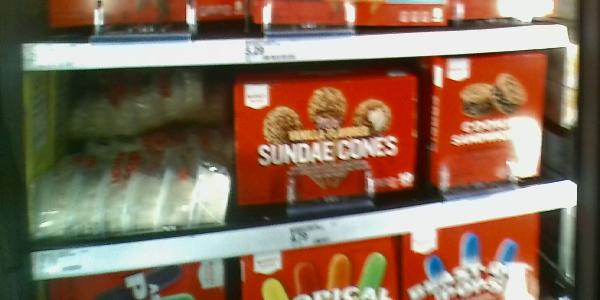icecream: (232, 70, 418, 218), (430, 54, 549, 194)
